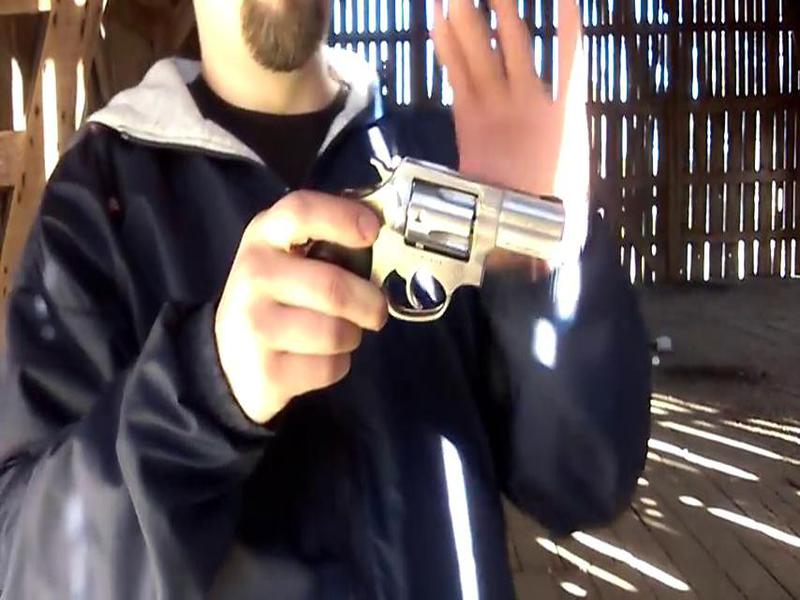Revolver: (294, 135, 602, 393)
